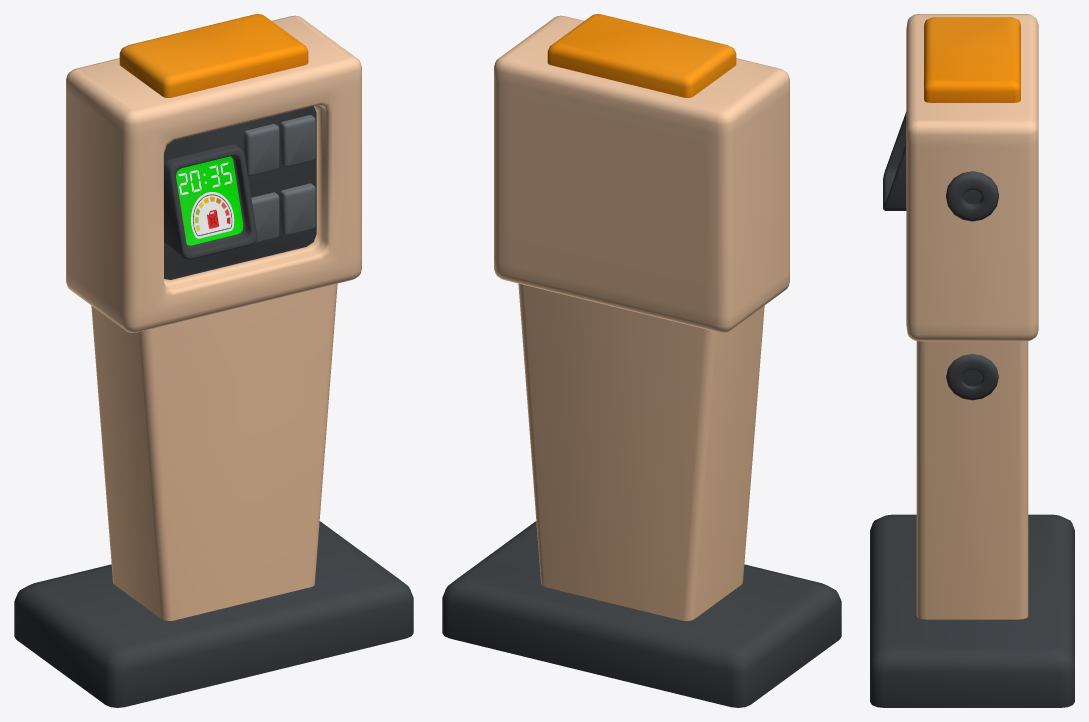
File: fuelPump.fbx
3 views of the same model, side by side, from view 1: azimuth 30°, elevation 25°; view 2: azimuth 150°, elevation 25°; view 3: azimuth 270°, elevation 25° (orthographic).
Visible parts, largest first — view 1: Cube; view 2: Cube; view 3: Cube.
Part boxes in pixels (left/top/right/bottom): Cube: left=14, top=14, right=413, bottom=707; Cube: left=442, top=14, right=841, bottom=707; Cube: left=870, top=14, right=1074, bottom=707.
Bounding box in the file's own units: 33.8 × 62.24 × 19.76.
